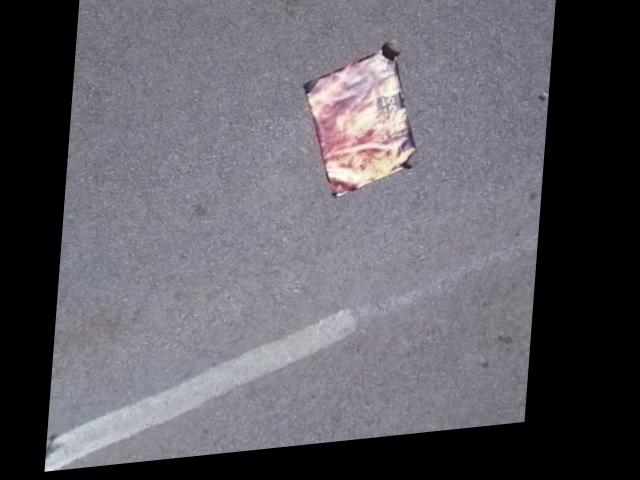fire-poster: (297, 45, 429, 209)
